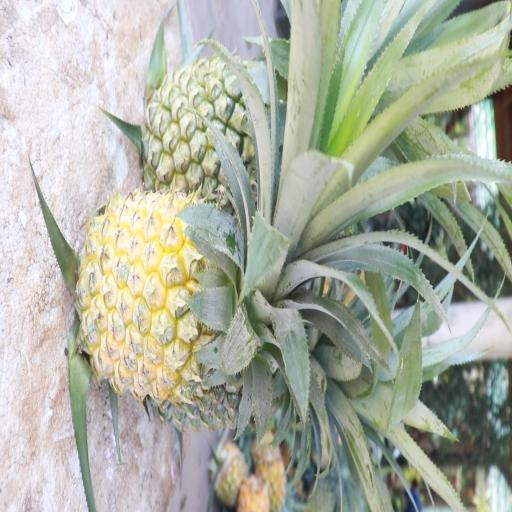------------------------------: (149, 48, 315, 204)
Pineapple - v8 v1: (79, 189, 301, 402)
